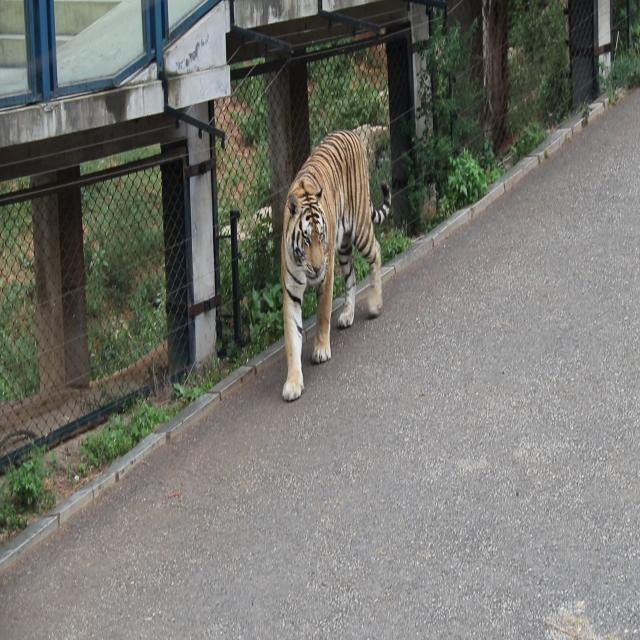Tiger: (260, 107, 408, 432)
